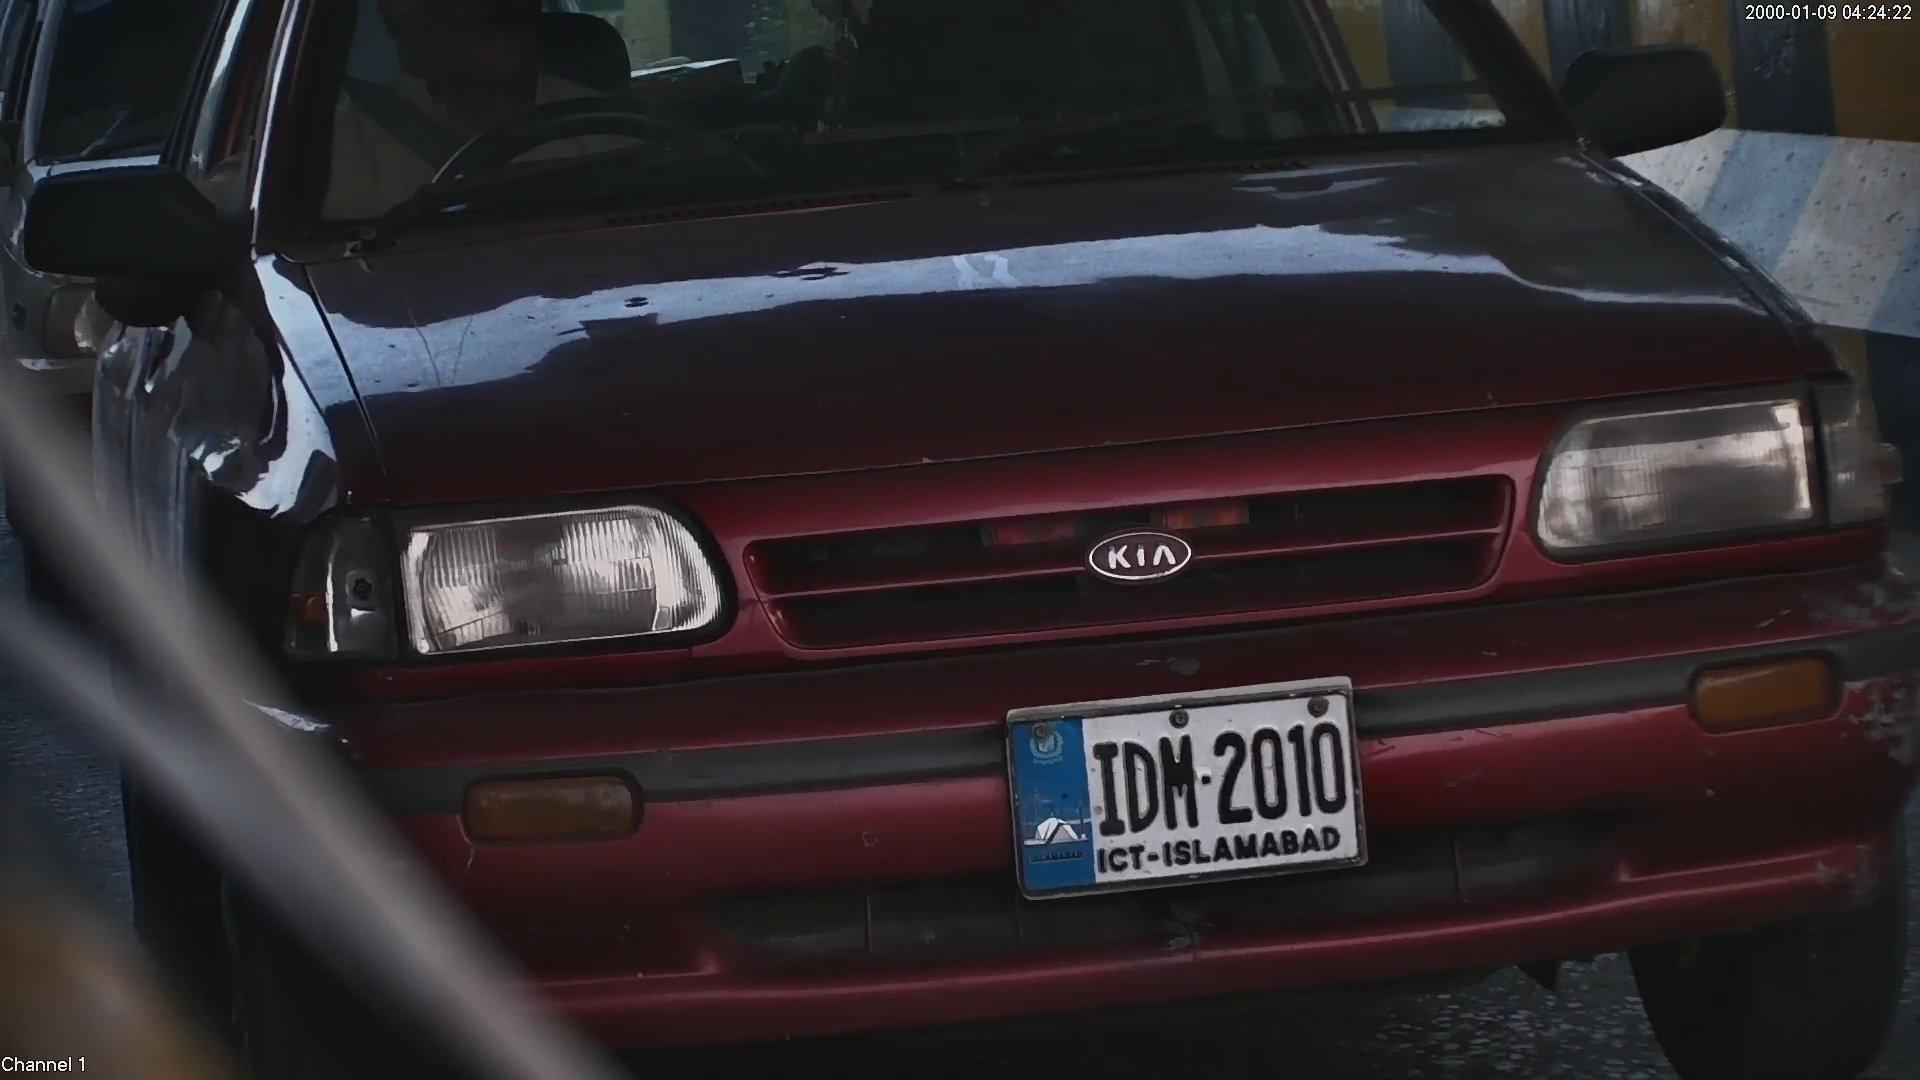Number_Plate: (982, 675, 1387, 903)
Undefined: (1528, 399, 1873, 559), (321, 507, 710, 636), (439, 757, 650, 846), (1678, 649, 1847, 731), (1069, 523, 1200, 588)
